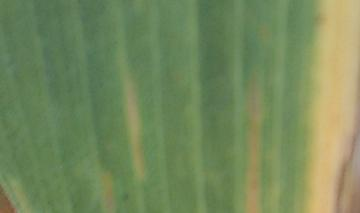tarspot: (120, 191, 130, 200)
